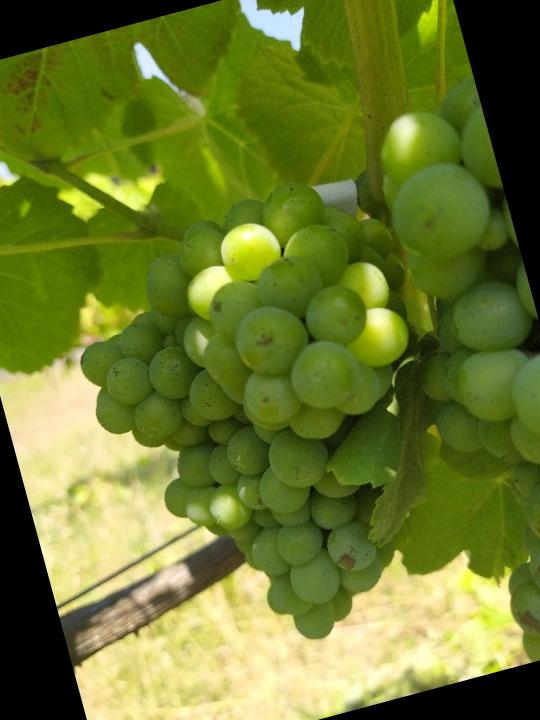grape: (47, 156, 493, 682)
